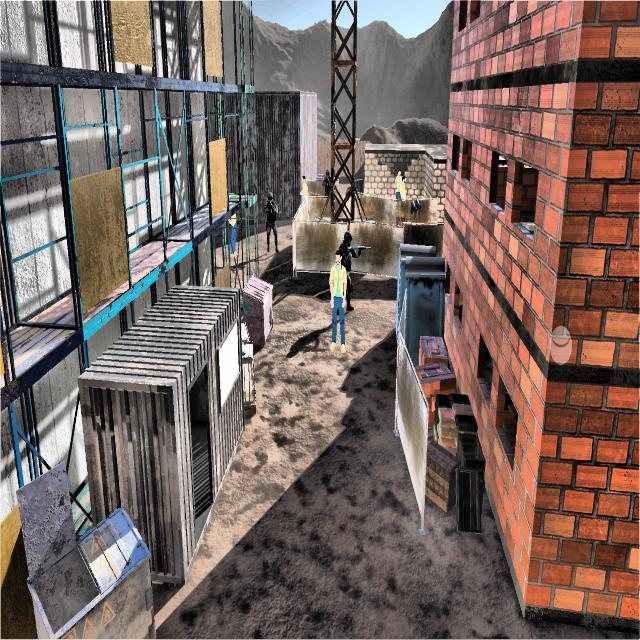bad: (335, 226, 361, 311), (264, 190, 280, 253), (320, 168, 332, 201)
good: (322, 253, 346, 356), (386, 162, 406, 211), (225, 209, 238, 265), (296, 174, 310, 202)
